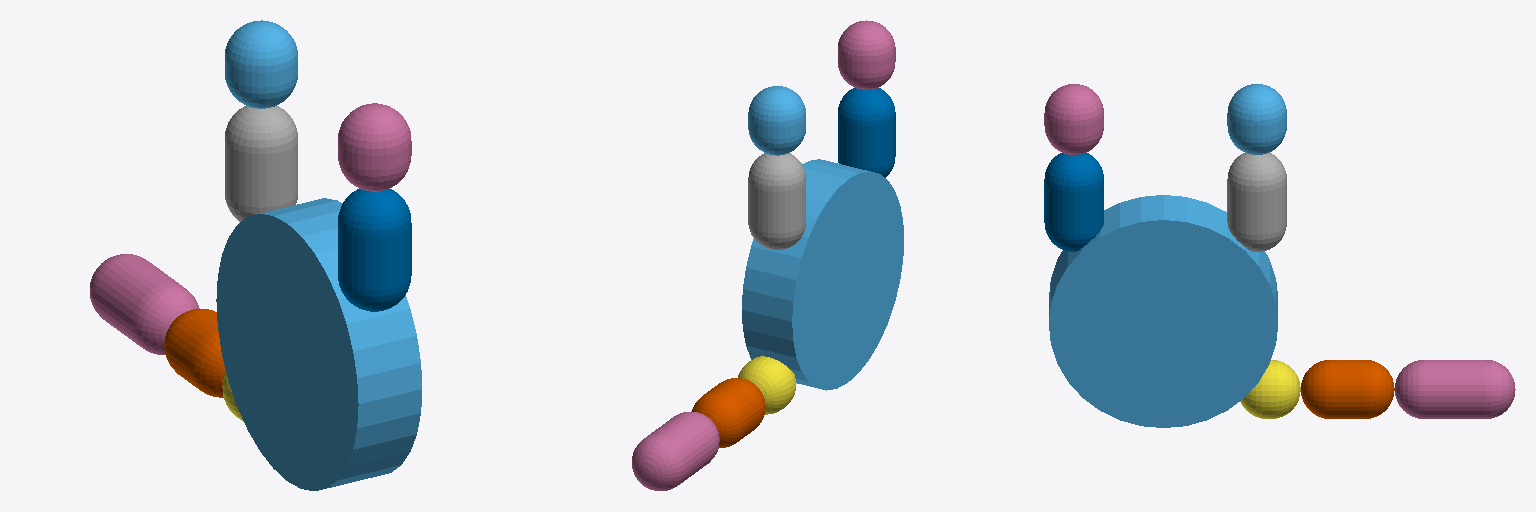
robot.urdf — DexterousHand:
<?xml version="1.0"?>
<robot name="DexterousHand">


    <link name="world"/>
    <joint name="world_to_palm" type="fixed">
        <parent link="world"/>
        <child link="palm"/>
        <origin xyz="0 0 0" rpy="0 0 0"/>
    </joint>
    <link name="palm">
        <inertial>
            <origin xyz="0 0 0.057" rpy="0 0 0"/>
            <mass value="0.30212892864"/>
            <inertia ixx="0.00049080844457568" ixy="0.0" ixz="0.0" iyy="0.00026746366246427523" iyz="0.0" izz="0.00026746366246427523"/>
        </inertial>
        <visual>
            <origin xyz="0 0 0.057" rpy="1.5708 0 1.5708"/>
            <geometry>
                <cylinder radius="0.057" length="0.0296"/>
            </geometry>
            <material name="default"/>
        </visual>
        <collision>
            <origin xyz="0 0 0.057" rpy="1.5708 0 1.5708"/>
            <geometry>
                <cylinder radius="0.057" length="0.0296"/>
            </geometry>
        </collision>
    </link>

    
    <joint name="thumb_joint1" type="revolute">
        <parent link="palm"/>
        <child link="thumb_base"/>
        <origin xyz="0.0029 0.0368 0.0157" rpy="-1.5708 -1.5708 0.0"/>
        <axis xyz="-1 0 0"/>
        <limit lower="-0.349" upper="2.094" effort="1.0" velocity="1.0"/>
    </joint>

    <link name="thumb_base"></link>

    <joint name="thumb_joint2" type="revolute">
        <parent link="thumb_base"/>
        <child link="thumb_proximal"/>
        <origin xyz="0.0 0.0 0.0" rpy="0.0 0.0 0.0"/>
        <axis xyz="0 0 1"/>
        <limit lower="-0.47" upper="2.443" effort="1.0" velocity="1.0"/>
    </joint>

    <link name="thumb_proximal">
        <inertial>
            <origin xyz="0 0 0.01565" rpy="0 0 0"/>
            <mass value="0.021538658803200002"/>
            <inertia ixx="2.9378910096388167e-06" ixy="0.0" ixz="0.0" 
            iyy="2.9378910096388167e-06" iyz="0.0" izz="2.358913912126464e-06"/>
        </inertial>
        <visual>
            <origin xyz="0 0 0.01565" rpy="0 0 0"/>
            <geometry>
                <cylinder radius="0.0148" length="0.0017000000000000001"/>
            </geometry>
            <material name="default"/>
        </visual>
        <visual>
            <origin xyz="0 0 0.0148" rpy="0 0 0"/>
            <geometry>
                <sphere radius="0.0148"/>
            </geometry>
            <material name="default"/>
        </visual>
        <visual>
            <origin xyz="0 0 0.0165" rpy="0 0 0"/>
            <geometry>
                <sphere radius="0.0148"/>
            </geometry>
            <material name="default"/>
        </visual>
        <collision>
            <origin xyz="0 0 0.01565" rpy="0 0 0"/>
            <geometry>
                <cylinder radius="0.0148" length="0.0017000000000000001"/>
            </geometry>
        </collision>
        <collision>
            <origin xyz="0 0 0.0148" rpy="0 0 0"/>
            <geometry>
                <sphere radius="0.0148"/>
            </geometry>
        </collision>
        <collision>
            <origin xyz="0 0 0.0165" rpy="0 0 0"/>
            <geometry>
                <sphere radius="0.0148"/>
            </geometry>
        </collision>
    </link>

    <joint name="thumb_joint3" type="revolute">
        <parent link="thumb_proximal"/>
        <child link="thumb_knuckle"/>
        <origin xyz="0.0 0.0 0.0313" rpy="0.0 0.0 0.0"/>
        <axis xyz="1 0 0"/>
        <limit lower="0.0" upper="0.0" effort="1.0" velocity="1.0"/>
    </joint>

    <link name="thumb_knuckle"></link>

    <joint name="thumb_joint4" type="revolute">
        <parent link="thumb_knuckle"/>
        <child link="thumb_middle"/>
        <origin xyz="0 0 0" rpy="0 0 0"/> 
        <axis xyz="0 1 0"/>
        <limit lower="-1.2" upper="1.9" effort="1.0" velocity="1.0"/>
    </joint>

    <link name="thumb_middle">
        <inertial>
            <origin xyz="0 0 0.0233" rpy="0 0 0"/>
            <mass value="0.032067140582400004"/>
            <inertia ixx="7.5589732685519385e-06" ixy="0.0" ixz="0.0" 
            iyy="7.5589732685519385e-06" iyz="0.0" izz="3.5119932365844485e-06"/>
        </inertial>
        <visual>
            <origin xyz="0 0 0.0233" rpy="0 0 0"/>
            <geometry>
                <cylinder radius="0.0148" length="0.017"/>
            </geometry>
            <material name="default"/>
        </visual>
        <visual>
            <origin xyz="0 0 0.0148" rpy="0 0 0"/>
            <geometry>
                <sphere radius="0.0148"/>
            </geometry>
            <material name="default"/>
        </visual>
        <visual>
            <origin xyz="0 0 0.0318" rpy="0 0 0"/>
            <geometry>
                <sphere radius="0.0148"/>
            </geometry>
            <material name="default"/>
        </visual>
        <collision>
            <origin xyz="0 0 0.0233" rpy="0 0 0"/>
            <geometry>
                <cylinder radius="0.0148" length="0.017"/>
            </geometry>
        </collision>
        <collision>
            <origin xyz="0 0 0.0148" rpy="0 0 0"/>
            <geometry>
                <sphere radius="0.0148"/>
            </geometry>
        </collision>
        <collision>
            <origin xyz="0 0 0.0318" rpy="0 0 0"/>
            <geometry>
                <sphere radius="0.0148"/>
            </geometry>
        </collision>
    </link>

    <joint name="thumb_joint5" type="revolute">
        <parent link="thumb_middle"/>
        <child link="thumb_distal"/>
        <origin xyz="0 0 0.0466" rpy="0 0 0"/> 
        <axis xyz="0 1 0"/>
        <limit lower="-1.34" upper="1.88" effort="1.0" velocity="1.0"/>
    </joint>

    <link name="thumb_distal">
        <inertial>
            <origin xyz="0 0 0.03" rpy="0 0 0"/>
            <mass value="0.04128816384"/>
            <inertia ixx="1.46473890038784e-05" ixy="0.0" ixz="0.0" 
            iyy="1.46473890038784e-05" iyz="0.0" izz="4.521879703756801e-06"/>
        </inertial>
        <visual>
            <origin xyz="0 0 0.03" rpy="0 0 0"/>
            <geometry>
                <cylinder radius="0.0148" length="0.030399999999999996"/>
            </geometry>
            <material name="default"/>
        </visual>
        <visual>
            <origin xyz="0 0 0.0148" rpy="0 0 0"/>
            <geometry>
                <sphere radius="0.0148"/>
            </geometry>
            <material name="default"/>
        </visual>
        <visual>
            <origin xyz="0 0 0.0452" rpy="0 0 0"/>
            <geometry>
                <sphere radius="0.0148"/>
            </geometry>
            <material name="default"/>
        </visual>
        <collision>
            <origin xyz="0 0 0.03" rpy="0 0 0"/>
            <geometry>
                <cylinder radius="0.0148" length="0.030399999999999996"/>
            </geometry>
        </collision>
        <collision>
            <origin xyz="0 0 0.0148" rpy="0 0 0"/>
            <geometry>
                <sphere radius="0.0148"/>
            </geometry>
        </collision>
        <collision>
            <origin xyz="0 0 0.0452" rpy="0 0 0"/>
            <geometry>
                <sphere radius="0.0148"/>
            </geometry>
        </collision>
    </link>

    
    <joint name="index_joint1" type="revolute">
        <parent link="palm"/>
        <child link="index_proximal"/>
        <origin xyz="0.0 0.0465 0.091" rpy="0.0 0.0 0.0"/>
        <axis xyz="0 1 0"/>
        <limit lower="-0.314" upper="2.23" effort="1.0" velocity="1.0"/>
    </joint>

    <link name="index_proximal">
        <inertial>
            <origin xyz="0 0 0.02655" rpy="0 0 0"/>
            <mass value="0.036540024998400006"/>
            <inertia ixx="1.058665009272394e-05" ixy="0.0" ixz="0.0" 
            iyy="1.058665009272394e-05" iyz="0.0" izz="4.001863537824769e-06"/>
        </inertial>
        <visual>
            <origin xyz="0 0 0.02655" rpy="0 0 0"/>
            <geometry>
                <cylinder radius="0.0148" length="0.0235"/>
            </geometry>
            <material name="default"/>
        </visual>
        <visual>
            <origin xyz="0 0 0.0148" rpy="0 0 0"/>
            <geometry>
                <sphere radius="0.0148"/>
            </geometry>
            <material name="default"/>
        </visual>
        <visual>
            <origin xyz="0 0 0.0383" rpy="0 0 0"/>
            <geometry>
                <sphere radius="0.0148"/>
            </geometry>
            <material name="default"/>
        </visual>
        <collision>
            <origin xyz="0 0 0.02655" rpy="0 0 0"/>
            <geometry>
                <cylinder radius="0.0148" length="0.0235"/>
            </geometry>
        </collision>
        <collision>
            <origin xyz="0 0 0.0148" rpy="0 0 0"/>
            <geometry>
                <sphere radius="0.0148"/>
            </geometry>
        </collision>
        <collision>
            <origin xyz="0 0 0.0383" rpy="0 0 0"/>
            <geometry>
                <sphere radius="0.0148"/>
            </geometry>
        </collision>
    </link>

    <joint name="index_joint2" type="revolute">
        <parent link="index_proximal"/>
        <child link="index_dummy"/>
        <origin xyz="0.0 0.0 0.038" rpy="0.0 0.0 0.0"/>
        <axis xyz="1 0 0"/>
        <limit lower="-1.047" upper="1.047" effort="1.0" velocity="1.0"/>
    </joint>

    <link name="index_dummy"></link>

    <joint name="index_joint3" type="revolute">
        <parent link="index_dummy"/>
        <child link="index_middle"/>
        <origin xyz="0 0 0.015100000000000002" rpy="0 0 0"/>
        <axis xyz="0 1 0"/>
        <limit lower="-0.506" upper="1.885" effort="1.0" velocity="1.0"/>
    </joint>

    <link name="index_middle">
        <inertial>
            <origin xyz="0 0 0.01805" rpy="0 0 0"/>
            <mass value="0.0248417119104"/>
            <inertia ixx="4.058162759109537e-06" ixy="0.0" ixz="0.0" 
            iyy="4.058162759109537e-06" iyz="0.0" izz="2.7206642884270085e-06"/>
        </inertial>
        <visual>
            <origin xyz="0 0 0.01805" rpy="0 0 0"/>
            <geometry>
                <cylinder radius="0.0148" length="0.006499999999999999"/>
            </geometry>
            <material name="default"/>
        </visual>
        <visual>
            <origin xyz="0 0 0.0148" rpy="0 0 0"/>
            <geometry>
                <sphere radius="0.0148"/>
            </geometry>
            <material name="default"/>
        </visual>
        <visual>
            <origin xyz="0 0 0.0213" rpy="0 0 0"/>
            <geometry>
                <sphere radius="0.0148"/>
            </geometry>
            <material name="default"/>
        </visual>
        <collision>
            <origin xyz="0 0 0.01805" rpy="0 0 0"/>
            <geometry>
                <cylinder radius="0.0148" length="0.006499999999999999"/>
            </geometry>
        </collision>
        <collision>
            <origin xyz="0 0 0.0148" rpy="0 0 0"/>
            <geometry>
                <sphere radius="0.0148"/>
            </geometry>
        </collision>
        <collision>
            <origin xyz="0 0 0.0213" rpy="0 0 0"/>
            <geometry>
                <sphere radius="0.0148"/>
            </geometry>
        </collision>
    </link>

    <joint name="index_joint4" type="revolute">
        <parent link="index_middle"/>
        <child link="index_distal"/>
        <origin xyz="0 0 0.0361" rpy="0 0 0"/> 
        <axis xyz="0 1 0"/>
        <limit lower="0.0" upper="0.0" effort="1.0" velocity="1.0"/>
    </joint>

    <link name="index_distal">
    </link>

    
    <joint name="middle_joint1" type="revolute">
        <parent link="palm"/>
        <child link="middle_proximal"/>
        <origin xyz="0.0 0.0 0.0" rpy="0.0 0.0 0.0"/>
        <axis xyz="1 0 0"/>
        <limit lower="0.0" upper="0.0" effort="1.0" velocity="1.0"/>
    </joint>

    <link name="middle_proximal">
    </link>

    <joint name="middle_joint2" type="revolute">
        <parent link="middle_proximal"/>
        <child link="middle_dummy"/>
        <origin xyz="0.0 0.0 0.0" rpy="0.0 0.0 0.0"/>
        <axis xyz="0 1 0"/>
        <limit lower="0.0" upper="0.0" effort="1.0" velocity="1.0"/>
    </joint>

    <link name="middle_dummy"></link>

    <joint name="middle_joint3" type="revolute">
        <parent link="middle_dummy"/>
        <child link="middle_middle"/>
        <origin xyz="0 0 0" rpy="0 0 0"/>
        <axis xyz="0 1 0"/>
        <limit lower="0.0" upper="0.0" effort="1.0" velocity="1.0"/>
    </joint>

    <link name="middle_middle">
    </link>

    <joint name="middle_joint4" type="revolute">
        <parent link="middle_middle"/>
        <child link="middle_distal"/>
        <origin xyz="0 0 0" rpy="0 0 0"/> 
        <axis xyz="0 1 0"/>
        <limit lower="0.0" upper="0.0" effort="1.0" velocity="1.0"/>
    </joint>

    <link name="middle_distal">
    </link>

    
    <joint name="ring_joint1" type="revolute">
        <parent link="palm"/>
        <child link="ring_proximal"/>
        <origin xyz="0.0 0.0 0.0" rpy="0.0 0.0 0.0"/>
        <axis xyz="1 0 0"/>
        <limit lower="0.0" upper="0.0" effort="1.0" velocity="1.0"/>
    </joint>

    <link name="ring_proximal">
    </link>

    <joint name="ring_joint2" type="revolute">
        <parent link="ring_proximal"/>
        <child link="ring_dummy"/>
        <origin xyz="0.0 0.0 0.0" rpy="0.0 0.0 0.0"/>
        <axis xyz="0 1 0"/>
        <limit lower="0.0" upper="0.0" effort="1.0" velocity="1.0"/>
    </joint>

    <link name="ring_dummy"></link>

    <joint name="ring_joint3" type="revolute">
        <parent link="ring_dummy"/>
        <child link="ring_middle"/>
        <origin xyz="0 0 0" rpy="0 0 0"/>
        <axis xyz="0 1 0"/>
        <limit lower="0.0" upper="0.0" effort="1.0" velocity="1.0"/>
    </joint>

    <link name="ring_middle">
    </link>

    <joint name="ring_joint4" type="revolute">
        <parent link="ring_middle"/>
        <child link="ring_distal"/>
        <origin xyz="0 0 0" rpy="0 0 0"/> 
        <axis xyz="0 1 0"/>
        <limit lower="0.0" upper="0.0" effort="1.0" velocity="1.0"/>
    </joint>

    <link name="ring_distal">
    </link>

    
    <joint name="little_joint0" type="revolute">
        <parent link="palm"/>
        <child link="little_base"/>
        <origin xyz="0.0 0.0 0.0" rpy="0.0 0.0 0.0"/>
        <axis xyz="0 1 0"/>
        <limit lower="0.0" upper="0.0" effort="1.0" velocity="1.0"/>
    </joint>

    <link name="little_base"></link>

    <joint name="little_joint1" type="revolute">
        <parent link="little_base"/>
        <child link="little_proximal"/>
        <origin xyz="0.0 -0.0443 0.091" rpy="-0.0 -0.0 -0.0"/>
        <axis xyz="0 1 0"/>
        <limit lower="-0.314" upper="2.23" effort="1.0" velocity="1.0"/>
    </joint>

    <link name="little_proximal">
        <inertial>
            <origin xyz="0 0 0.02655" rpy="0 0 0"/>
            <mass value="0.036540024998400006"/>
            <inertia ixx="1.058665009272394e-05" ixy="0.0" ixz="0.0" 
            iyy="1.058665009272394e-05" iyz="0.0" izz="4.001863537824769e-06"/>
        </inertial>
        <visual>
            <origin xyz="0 0 0.02655" rpy="0 0 0"/>
            <geometry>
                <cylinder radius="0.0148" length="0.0235"/>
            </geometry>
            <material name="default"/>
        </visual>
        <visual>
            <origin xyz="0 0 0.0148" rpy="0 0 0"/>
            <geometry>
                <sphere radius="0.0148"/>
            </geometry>
            <material name="default"/>
        </visual>
        <visual>
            <origin xyz="0 0 0.0383" rpy="0 0 0"/>
            <geometry>
                <sphere radius="0.0148"/>
            </geometry>
            <material name="default"/>
        </visual>
        <collision>
            <origin xyz="0 0 0.02655" rpy="0 0 0"/>
            <geometry>
                <cylinder radius="0.0148" length="0.0235"/>
            </geometry>
        </collision>
        <collision>
            <origin xyz="0 0 0.0148" rpy="0 0 0"/>
            <geometry>
                <sphere radius="0.0148"/>
            </geometry>
        </collision>
        <collision>
            <origin xyz="0 0 0.0383" rpy="0 0 0"/>
            <geometry>
                <sphere radius="0.0148"/>
            </geometry>
        </collision>
    </link>

    <joint name="little_joint2" type="revolute">
        <parent link="little_proximal"/>
        <child link="little_dummy"/>
        <origin xyz="0.0 0.0 0.038" rpy="0.0 0.0 0.0"/>
        <axis xyz="1 0 0"/>
        <limit lower="-1.047" upper="1.047" effort="1.0" velocity="1.0"/>
    </joint>

    <link name="little_dummy"></link>

    <joint name="little_joint3" type="revolute">
        <parent link="little_dummy"/>
        <child link="little_middle"/>
        <origin xyz="0 0 0.015100000000000002" rpy="0 0 0"/>
        <axis xyz="0 1 0"/>
        <limit lower="-0.506" upper="1.885" effort="1.0" velocity="1.0"/>
    </joint>

    <link name="little_middle">
        <inertial>
            <origin xyz="0 0 0.01805" rpy="0 0 0"/>
            <mass value="0.0248417119104"/>
            <inertia ixx="4.058162759109537e-06" ixy="0.0" ixz="0.0" 
            iyy="4.058162759109537e-06" iyz="0.0" izz="2.7206642884270085e-06"/>
        </inertial>
        <visual>
            <origin xyz="0 0 0.01805" rpy="0 0 0"/>
            <geometry>
                <cylinder radius="0.0148" length="0.006499999999999999"/>
            </geometry>
            <material name="default"/>
        </visual>
        <visual>
            <origin xyz="0 0 0.0148" rpy="0 0 0"/>
            <geometry>
                <sphere radius="0.0148"/>
            </geometry>
            <material name="default"/>
        </visual>
        <visual>
            <origin xyz="0 0 0.0213" rpy="0 0 0"/>
            <geometry>
                <sphere radius="0.0148"/>
            </geometry>
            <material name="default"/>
        </visual>
        <collision>
            <origin xyz="0 0 0.01805" rpy="0 0 0"/>
            <geometry>
                <cylinder radius="0.0148" length="0.006499999999999999"/>
            </geometry>
        </collision>
        <collision>
            <origin xyz="0 0 0.0148" rpy="0 0 0"/>
            <geometry>
                <sphere radius="0.0148"/>
            </geometry>
        </collision>
        <collision>
            <origin xyz="0 0 0.0213" rpy="0 0 0"/>
            <geometry>
                <sphere radius="0.0148"/>
            </geometry>
        </collision>
    </link>

    <joint name="little_joint4" type="revolute">
        <parent link="little_middle"/>
        <child link="little_distal"/>
        <origin xyz="0 0 0.0361" rpy="0 0 0"/>
        <axis xyz="0 1 0"/>
        <limit lower="0.0" upper="0.0" effort="1.0" velocity="1.0"/>
    </joint>

    <link name="little_distal">
    </link>

</robot>

--- Render facts (derived) ---
3 views of the same robot in one strip: view 1: azimuth 30°, elevation 25°; view 2: azimuth 150°, elevation 25°; view 3: azimuth 270°, elevation 25° (orthographic).
Robot: DexterousHand — 24 links, 23 joints (22 revolute, 1 fixed); root link world; default pose: all joints at 0.
Visible links, largest first — view 1: palm, little_proximal, index_proximal, thumb_distal, little_middle, index_middle, thumb_middle; view 2: palm, index_proximal, thumb_distal, little_proximal, index_middle, little_middle, thumb_middle, thumb_proximal; view 3: palm, thumb_distal, index_proximal, little_proximal, thumb_middle, little_middle, index_middle, thumb_proximal.
Boxes of the visible links, x1,y1,x2,y2 form: palm: [216, 198, 421, 490]; little_proximal: [338, 189, 411, 311]; index_proximal: [225, 106, 297, 221]; thumb_distal: [90, 254, 199, 354]; little_middle: [338, 103, 411, 191]; index_middle: [225, 20, 297, 108]; thumb_middle: [164, 309, 225, 397]; palm: [742, 159, 903, 390]; index_proximal: [748, 153, 805, 249]; thumb_distal: [632, 411, 719, 490]; little_proximal: [838, 88, 895, 177]; index_middle: [748, 86, 805, 155]; little_middle: [838, 20, 895, 89]; thumb_middle: [692, 378, 765, 447]; thumb_proximal: [738, 356, 795, 414]; palm: [1049, 195, 1277, 427]; thumb_distal: [1395, 360, 1515, 418]; index_proximal: [1227, 153, 1286, 251]; little_proximal: [1044, 153, 1103, 251]; thumb_middle: [1301, 360, 1394, 418]; little_middle: [1044, 84, 1103, 154]; index_middle: [1227, 84, 1286, 154]; thumb_proximal: [1240, 360, 1300, 418].
Size in the robot's own frame: 0.0325 by 0.2338 by 0.1802 metres.
Geometry: primitives only (box / cylinder / sphere), no mesh files.
